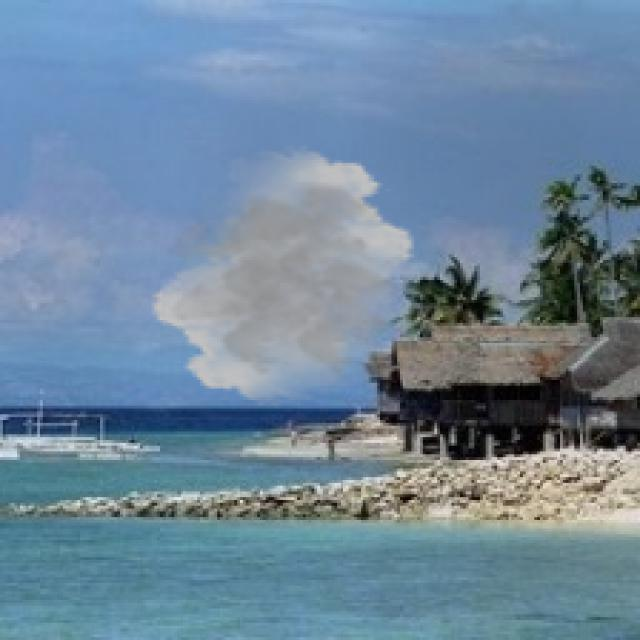Smoke: (148, 146, 418, 406)
